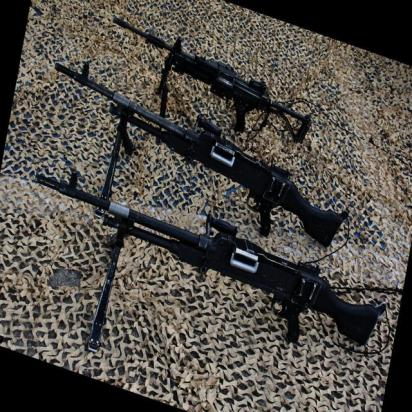Gun: (134, 40, 325, 127)
